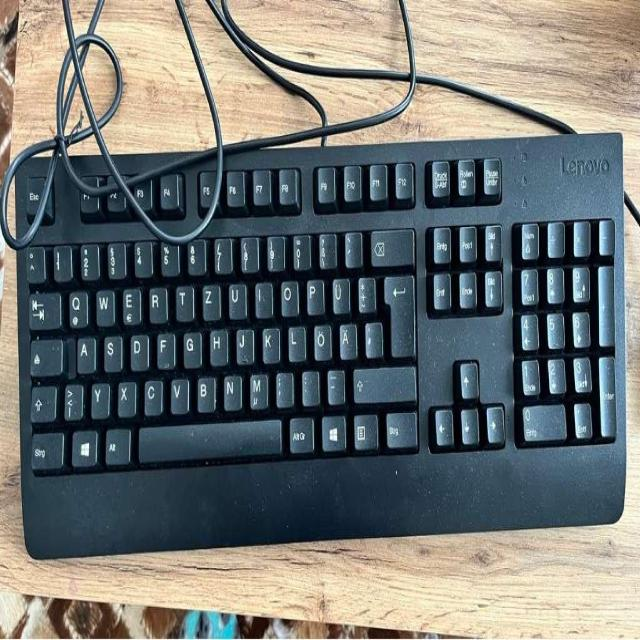0: (290, 229, 310, 267)
1: (51, 240, 71, 279)
2: (78, 238, 98, 278)
3: (105, 237, 125, 277)
4: (131, 236, 151, 275)
5: (158, 238, 178, 274)
6: (184, 235, 205, 274)
7: (211, 233, 231, 272)
8: (238, 232, 258, 271)
9: (264, 230, 283, 268)
a: (74, 331, 94, 370)
accent: (342, 227, 361, 264)
ae: (336, 318, 355, 357)
alt-left: (102, 423, 129, 461)
altgr-right: (286, 412, 312, 449)
b: (194, 371, 214, 409)
c: (141, 374, 161, 412)
caret: (23, 242, 43, 281)
comma: (273, 367, 292, 404)
d: (127, 329, 147, 366)
del: (367, 224, 412, 264)
e: (120, 282, 139, 321)
enter: (381, 270, 413, 354)
f: (155, 328, 174, 365)
g: (180, 327, 200, 364)
h: (207, 325, 226, 362)
hash: (362, 317, 381, 354)
i: (252, 277, 271, 314)
j: (233, 323, 253, 361)
k: (260, 322, 279, 359)
keyboard: (16, 146, 628, 502)
l: (286, 320, 304, 358)
less: (61, 379, 81, 418)
m: (247, 369, 266, 406)
minus: (325, 364, 344, 401)
n: (221, 370, 240, 406)
o: (277, 275, 297, 314)
oe: (311, 319, 330, 356)
p: (304, 274, 323, 311)
plus: (355, 271, 373, 309)
point: (300, 366, 318, 402)
q: (66, 286, 86, 325)
r: (146, 281, 166, 319)
s: (101, 330, 121, 369)
shift-left: (27, 381, 55, 420)
shift-lock: (28, 333, 62, 373)
shift-right: (351, 361, 415, 399)
space: (136, 416, 280, 459)
ss: (316, 228, 335, 266)
strg-left: (27, 428, 62, 468)
strg-right: (382, 406, 416, 445)
t: (173, 279, 192, 318)
tab: (26, 287, 60, 328)
u: (226, 278, 245, 315)
ue: (330, 272, 349, 310)
v: (167, 372, 187, 410)
w: (94, 284, 113, 323)
x: (115, 375, 134, 413)
y: (88, 378, 108, 415)
z: (199, 279, 219, 318)
